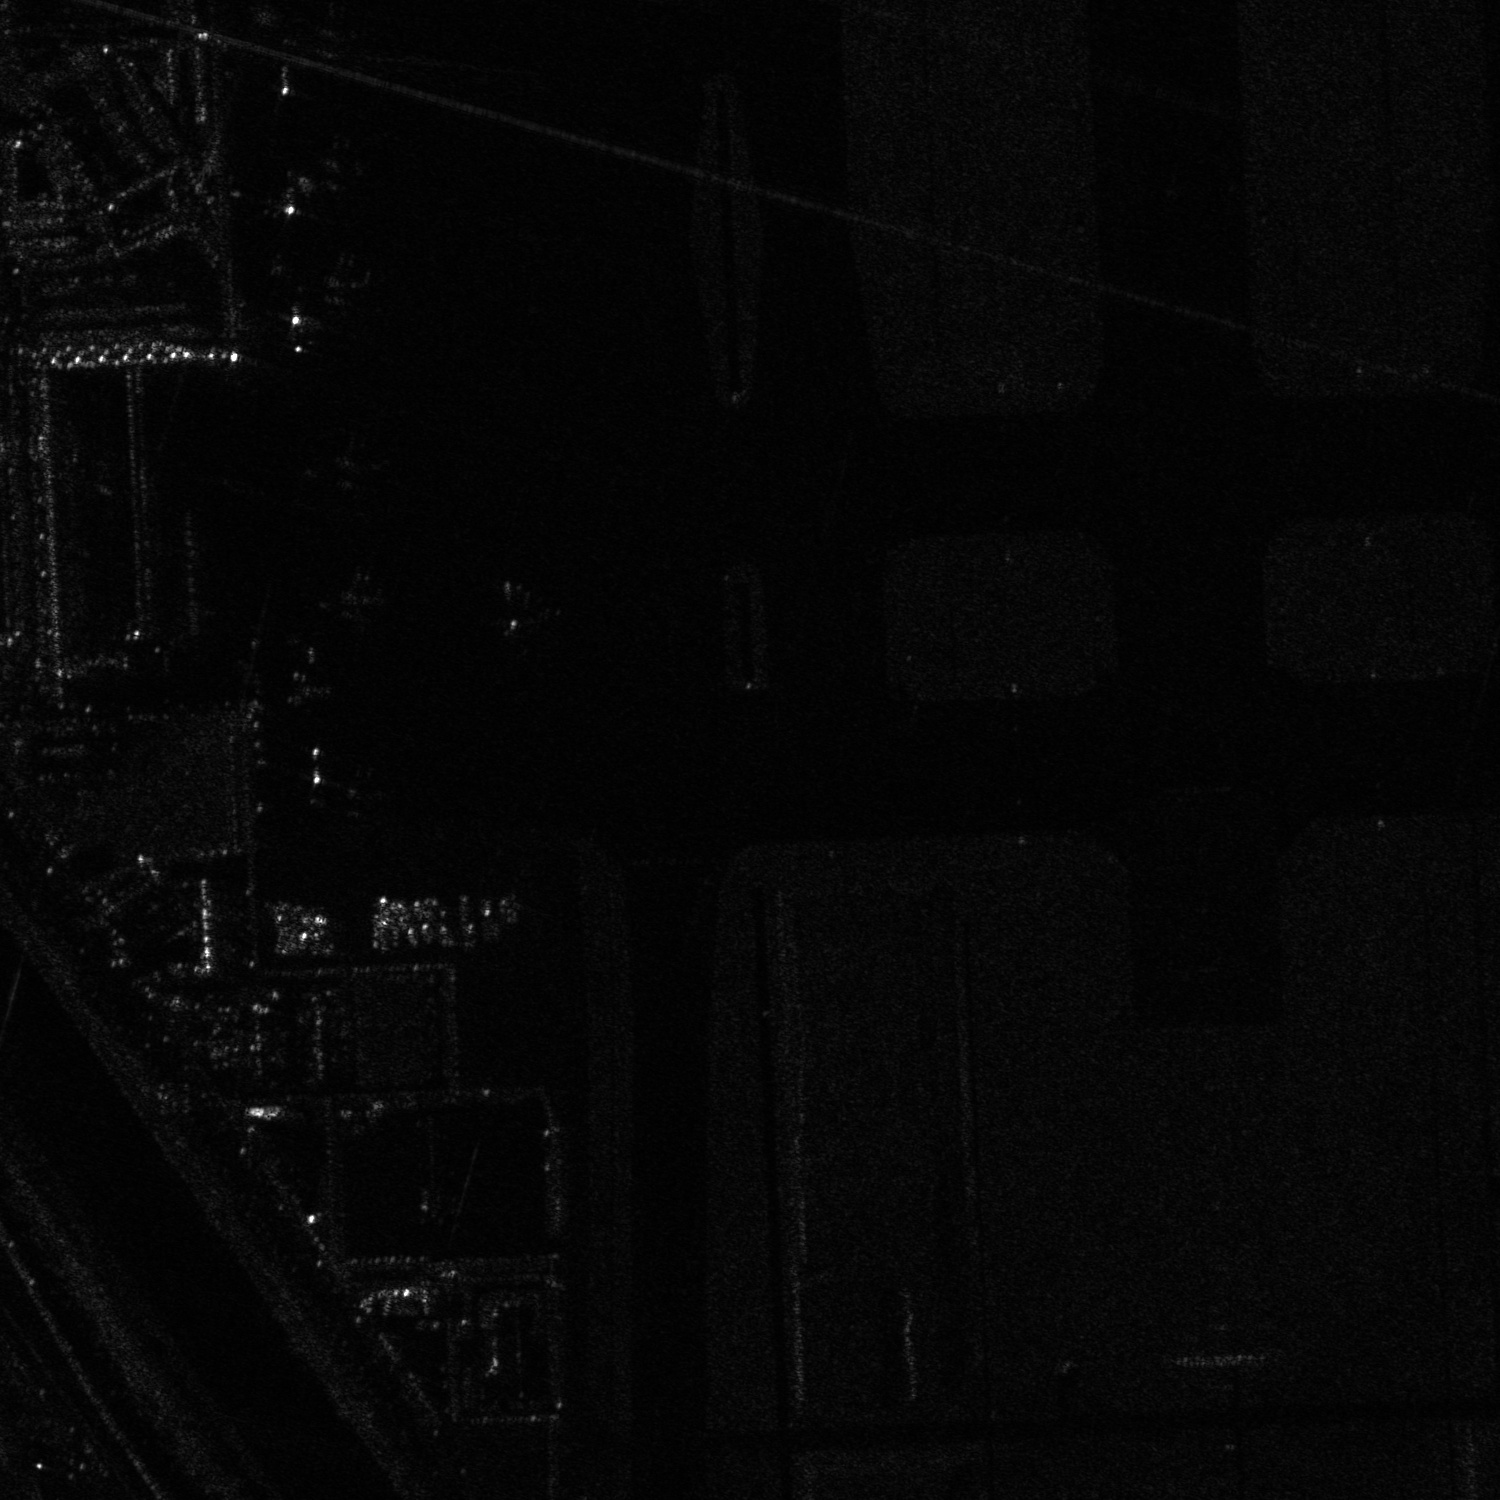A220: (286, 122, 394, 218), (288, 240, 391, 324), (319, 554, 407, 632), (310, 431, 393, 510)
other: (466, 570, 578, 641)
